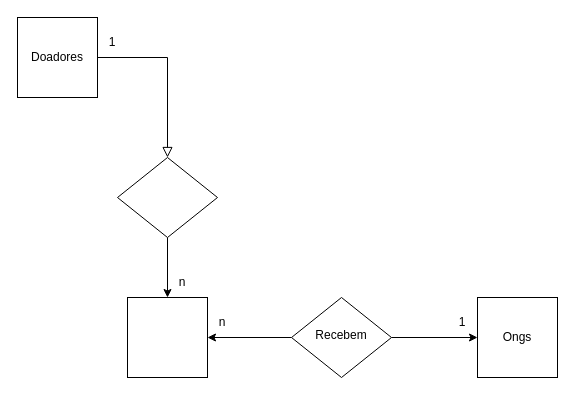
Some shapes in this 575 by 395 pixel diagram are drawn without their labels. The shapes that lost their labels are listed below. From the top down, each one's centre as x and y in pixels, then its label:
At point 167,197: "Doam".
At point 167,337: "Equipamentos".
